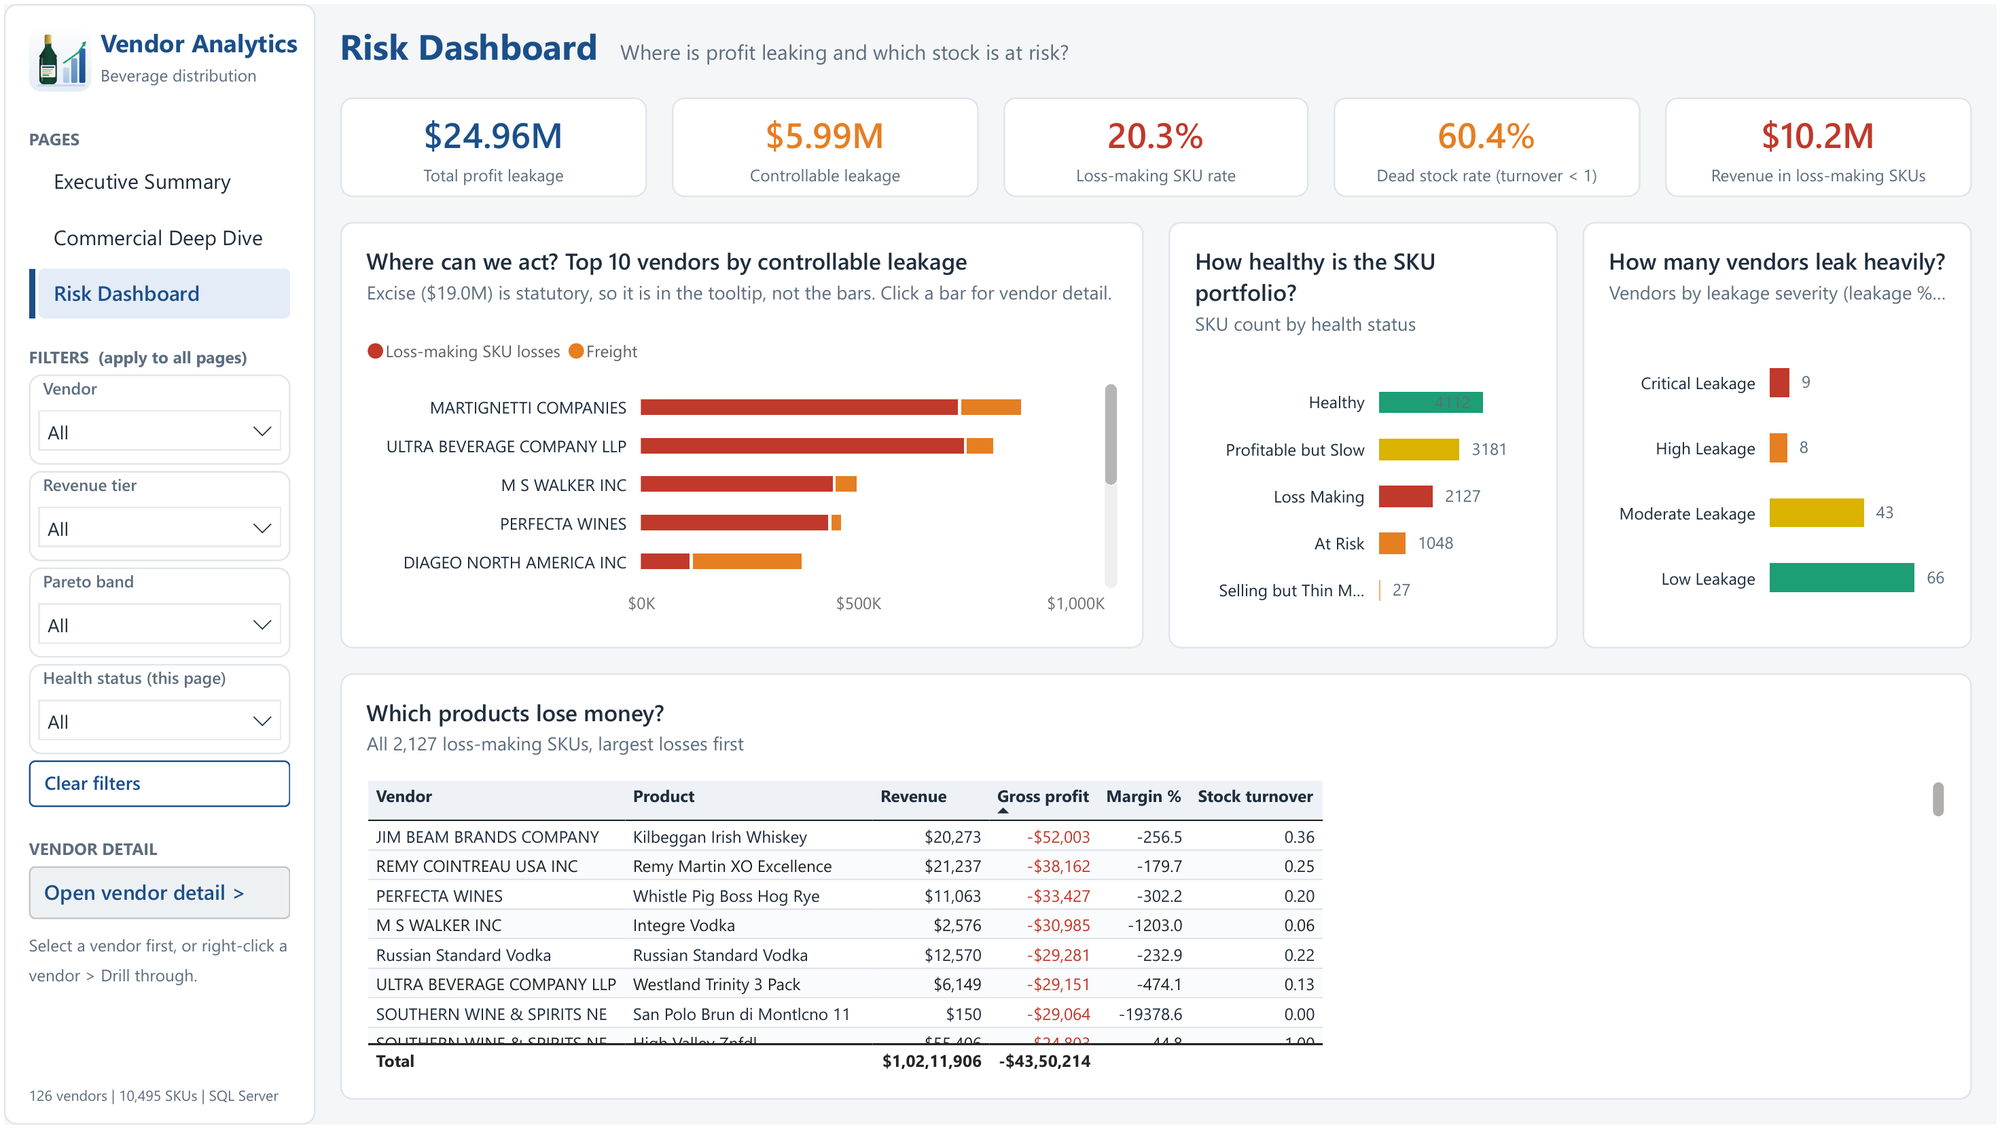

This screenshot's page, from the dashboard's own definition file:
{"tool":"powerbi","page":{"name":"Risk Dashboard","canvas":[1920,1080],"ordinal":2},"visuals":[{"type":"card","fields":{"Values":["_Commercial_Measures.Loss Making SKUs"]},"box":[0,0,275.1,121.2],"z":0},{"type":"card","fields":{"Values":["_Commercial_Measures.Dead Stock Rate %"]},"box":[962.7,0,295,123.1],"z":1000},{"type":"card","fields":{"Values":["_Commercial_Measures.Profit Leakage"]},"box":[1303,0,298.6,123.1],"z":2000},{"type":"card","fields":{"Values":["_Commercial_Measures.Loss Making Rate %"]},"box":[318.5,0,273.3,121.2],"z":3000},{"type":"card","fields":{"Values":["_Commercial_Measures.Revenue_At_Risk"]},"box":[1648.6,0,271.4,121.2],"z":4000},{"type":"card","fields":{"Values":["_Commercial_Measures.Dead Stock SKUs"]},"box":[635.2,0,289.5,121.2],"z":5000},{"type":"clusteredBarChart","title":"SKU Count by Health Status","fields":{"Category":["Portfolio_Health.HealthStatus"],"Y":["CountNonNull(Portfolio_Health.Description)"]},"box":[687,637,550,442.6],"z":6000},{"type":"barChart","title":"Profit Leakage by Vendor - Three Dimensions","fields":{"Category":["vw_ProfitLeakage.VendorName"],"Y":["Sum(vw_ProfitLeakage.LossMakingLeakage)","Sum(vw_ProfitLeakage.ExciseLeakage)","Sum(vw_ProfitLeakage.FreightLeakage)"]},"box":[17.3,562.7,662.2,517.2],"z":7000},{"type":"tableEx","title":"Loss Making Products - Full List","fields":{"Values":["Portfolio_Health.VendorName","Portfolio_Health.Description","Sum(Portfolio_Health.TotalSalesDollars)","Sum(Portfolio_Health.GrossProfit)","Sum(Portfolio_Health.ProfitMargin)","Sum(Portfolio_Health.StockTurnover)","Portfolio_Health.HealthStatus","_Revenue Measures.SKUs by Health Category"]},"box":[870,138.5,1049.6,458.8],"z":8000},{"type":"scatterChart","fields":{"Category":["Portfolio_Health.Description"],"Series":["Portfolio_Health.TurnoverCategory"],"X":["Avg(Portfolio_Health.StockTurnover)"],"Y":["Sum(Portfolio_Health.TotalSalesDollars)"]},"box":[1256.7,635,663.3,445],"z":9000},{"type":"slicer","title":"Filter By Vendor","fields":{"Values":["Vendor_Revenue.VendorName"]},"box":[18,140,300,202],"z":10000},{"type":"donutChart","title":"Vendors by Leakage Severity","fields":{"Category":["vw_ProfitLeakage.LeakageSeverity"],"Y":["CountNonNull(vw_ProfitLeakage.VendorName)"]},"box":[380,143,463.3,398.1],"z":11000}]}

Visuals, with their boxes on the page's 1920x1080 design canvas (x1, y1, x2, y2). These are canvas units, not pixel positions in the 2000x1128 screenshot, which may show the page scaled, cropped or inside an application window:
card - _Commercial_Measures.Loss Making SKUs: 0:0:275:121
card - _Commercial_Measures.Dead Stock Rate %: 963:0:1258:123
card - _Commercial_Measures.Profit Leakage: 1303:0:1602:123
card - _Commercial_Measures.Loss Making Rate %: 318:0:592:121
card - _Commercial_Measures.Revenue_At_Risk: 1649:0:1920:121
card - _Commercial_Measures.Dead Stock SKUs: 635:0:925:121
"SKU Count by Health Status" clusteredBarChart: 687:637:1237:1080
"Profit Leakage by Vendor - Three Dimensions" barChart: 17:563:680:1080
"Loss Making Products - Full List" tableEx: 870:138:1920:597
scatterChart - Portfolio_Health.Description x Portfolio_Health.TurnoverCategory: 1257:635:1920:1080
"Filter By Vendor" slicer: 18:140:318:342
"Vendors by Leakage Severity" donutChart: 380:143:843:541
